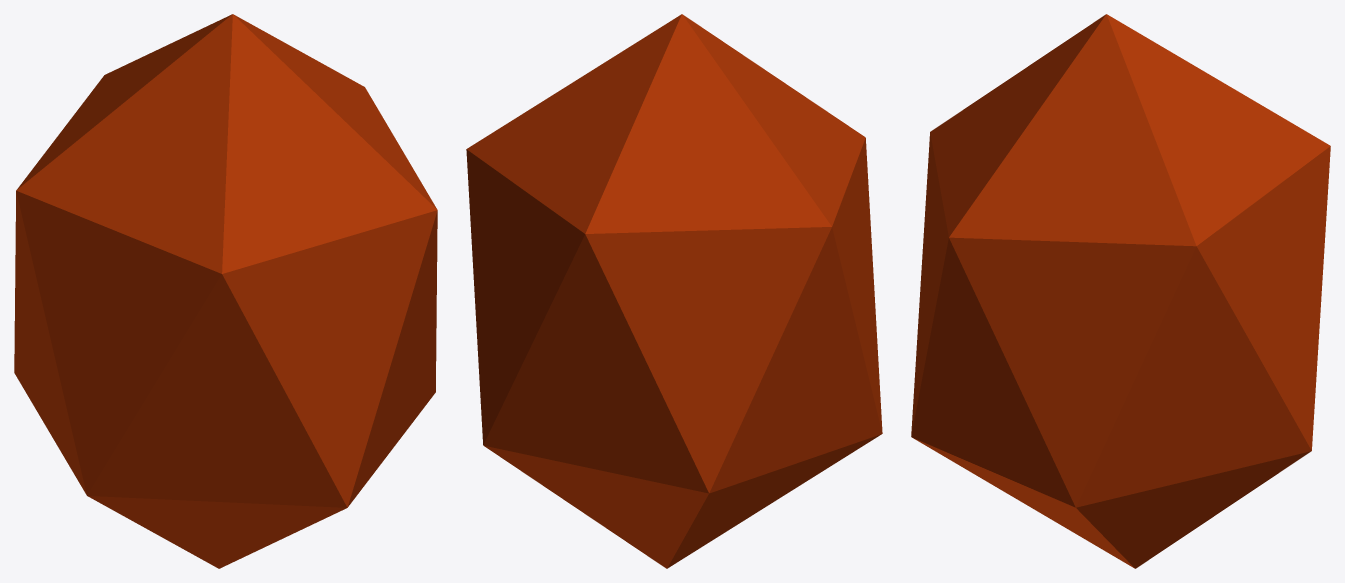
Rendered from cry_orange.fbx.
3 renders of one model, left to right at view 1: azimuth 30°, elevation 25°; view 2: azimuth 150°, elevation 25°; view 3: azimuth 270°, elevation 25°, orthographic. The views are drawn at different scales.
Visible parts, largest first — view 1: cry_orange; view 2: cry_orange; view 3: cry_orange.
Part boxes in pixels (box(x1,y1,x2,y2)): cry_orange: box(14, 14, 437, 568); cry_orange: box(466, 14, 882, 568); cry_orange: box(911, 14, 1330, 568).
Size of the model in its own units: 0.674 by 0.9758 by 0.6694.
